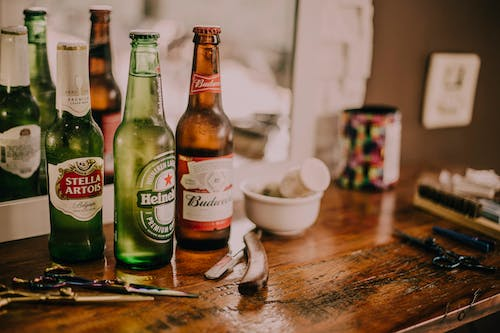alcohol: (112, 29, 177, 271), (44, 40, 105, 266), (177, 23, 234, 252), (0, 26, 42, 203), (20, 6, 57, 196), (88, 5, 123, 185)
